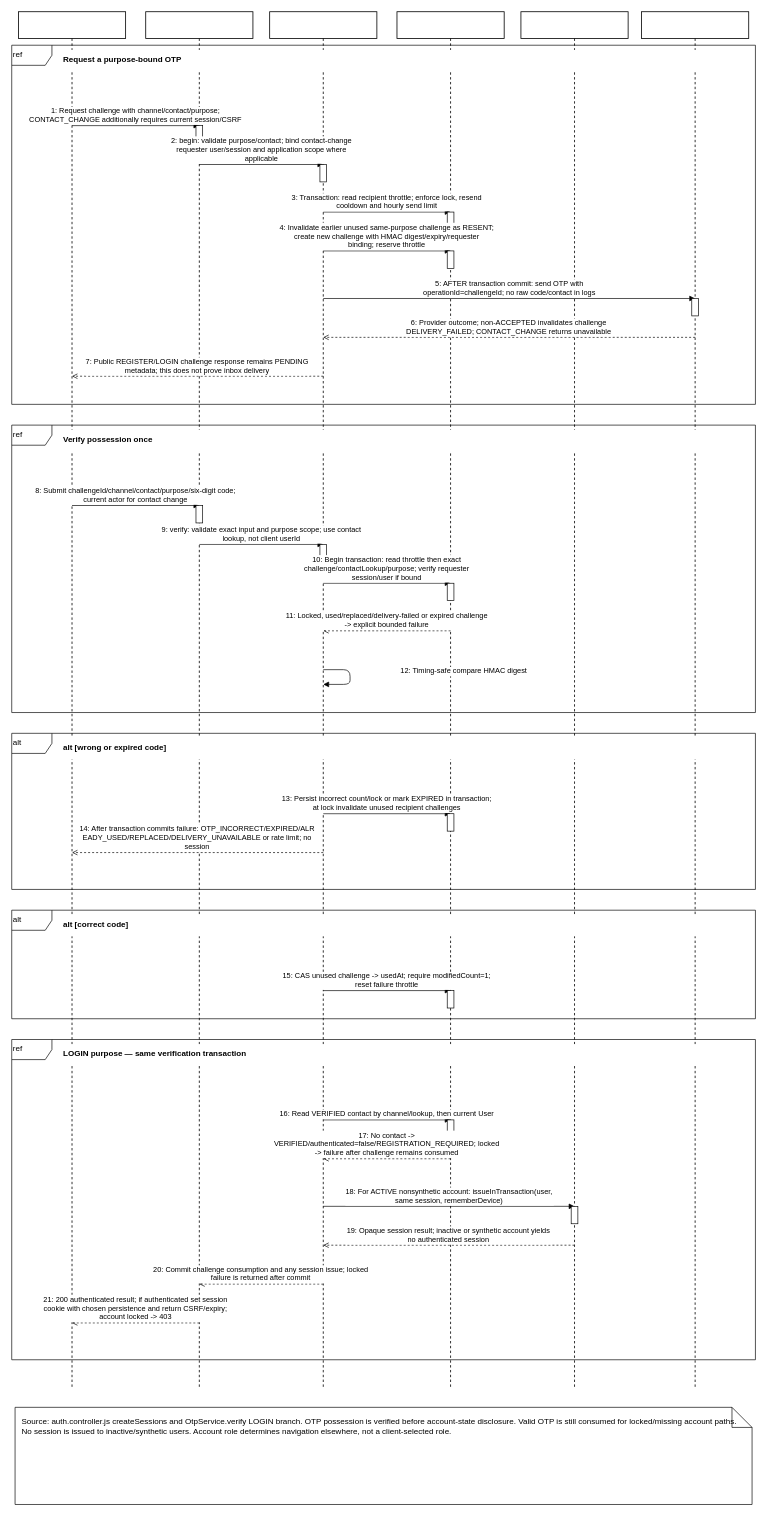
The diagram is 767 pixels wide and 1517 high, and some of its shapes have lost their labels. The shapes that lost their labels are listed below. From the top down, each one's box as (x1, y1, x2, y2) in pixels, then its label:
(18, 11, 126, 1387): Guest / account owner
(145, 11, 253, 1387): : AuthController
(269, 11, 377, 1387): : OtpService
(396, 11, 504, 1387): : Identity MongoDB
(520, 11, 628, 1387): : Verified-purpose handler / SessionService
(641, 11, 749, 1387): : ContactDelivery
